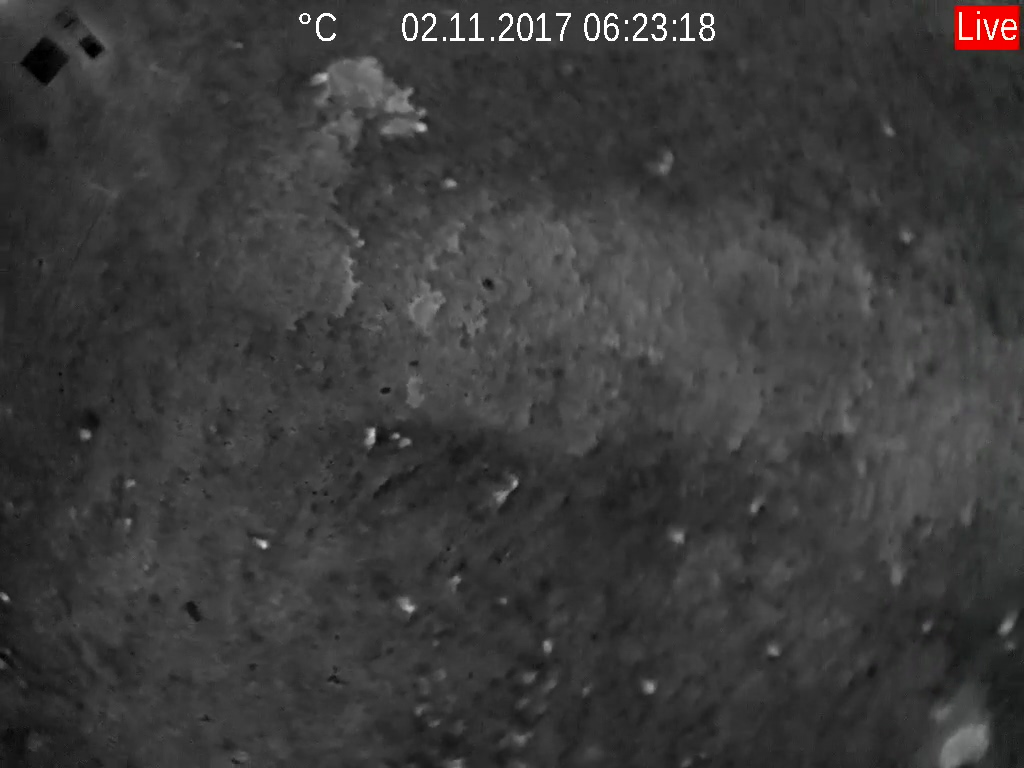warren: (490, 472, 522, 510), (391, 589, 416, 619), (359, 422, 381, 450), (249, 529, 269, 556)
